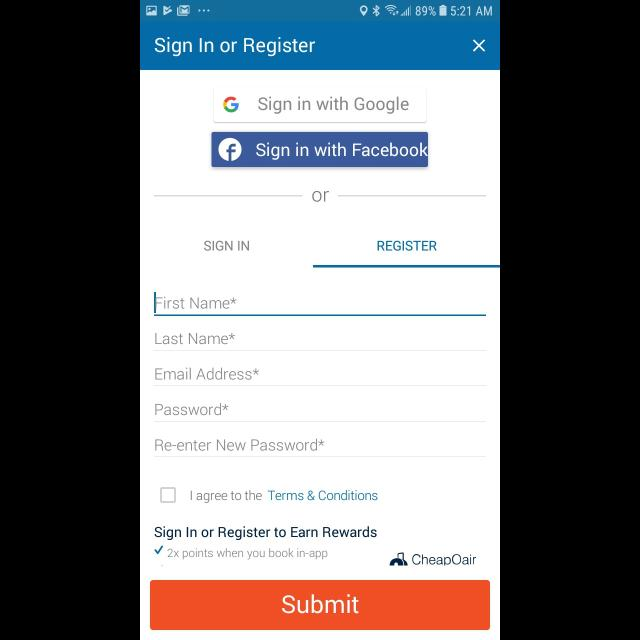checkbox: (160, 488, 176, 502)
icon: (472, 40, 486, 52), (154, 546, 164, 554)
image: (388, 552, 408, 566)
input: (154, 292, 486, 316), (154, 402, 486, 422), (154, 438, 486, 458), (154, 368, 486, 387), (154, 333, 486, 351)
text: (154, 37, 316, 57), (155, 526, 377, 540), (190, 489, 378, 503), (156, 439, 324, 451), (168, 548, 328, 560), (155, 368, 259, 380), (156, 296, 237, 310), (156, 333, 236, 345), (156, 404, 228, 416), (412, 554, 476, 566), (378, 240, 437, 252), (204, 240, 250, 252), (312, 190, 330, 202)
textbutton: (150, 580, 490, 630), (212, 132, 428, 168), (213, 87, 427, 123)
uppertaskbar: (140, 1, 500, 22)
